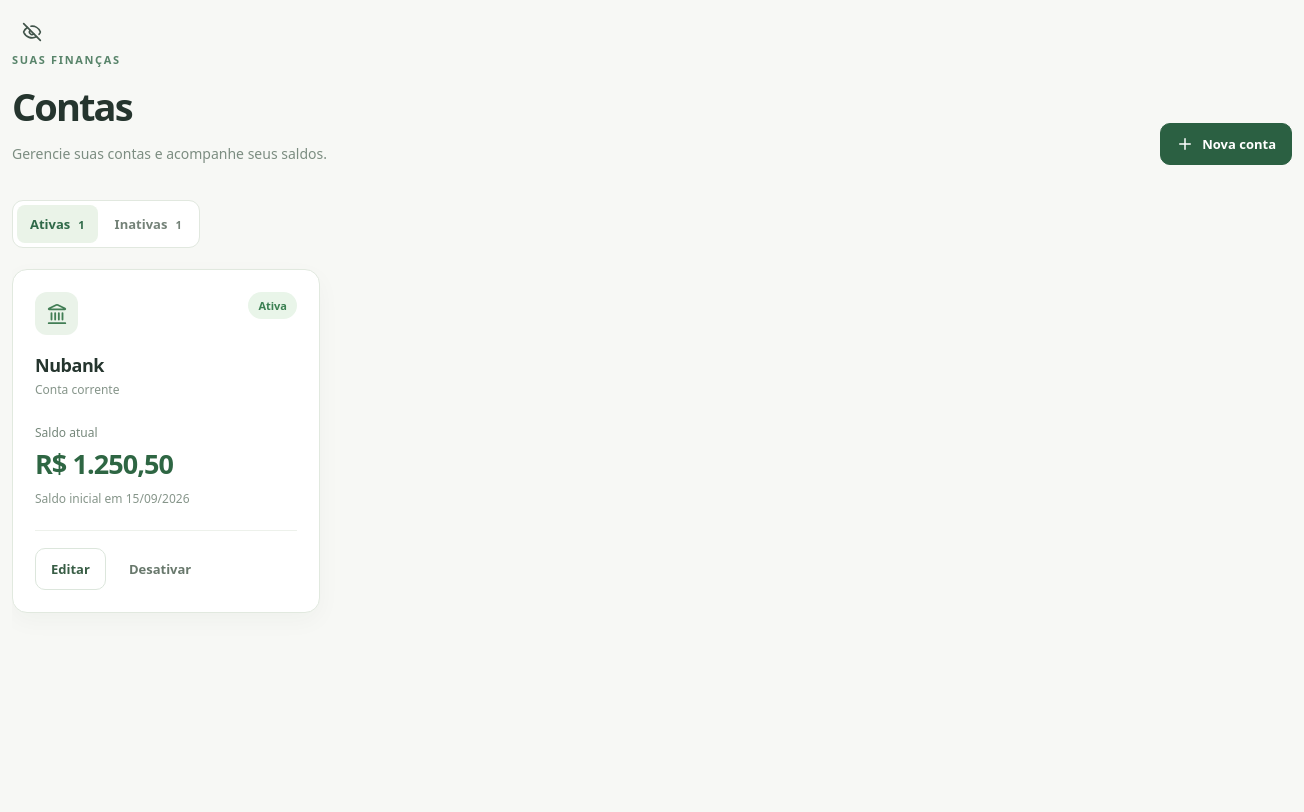
3: lists active accounts and keeps inactive accounts reachable
Expected: the heading "Nubank" is shown, [35,353,104,377]
Expected: the text "Reserva" is not shown
Click the button "Inativas 1" at (148, 224), box [102,205,195,243]
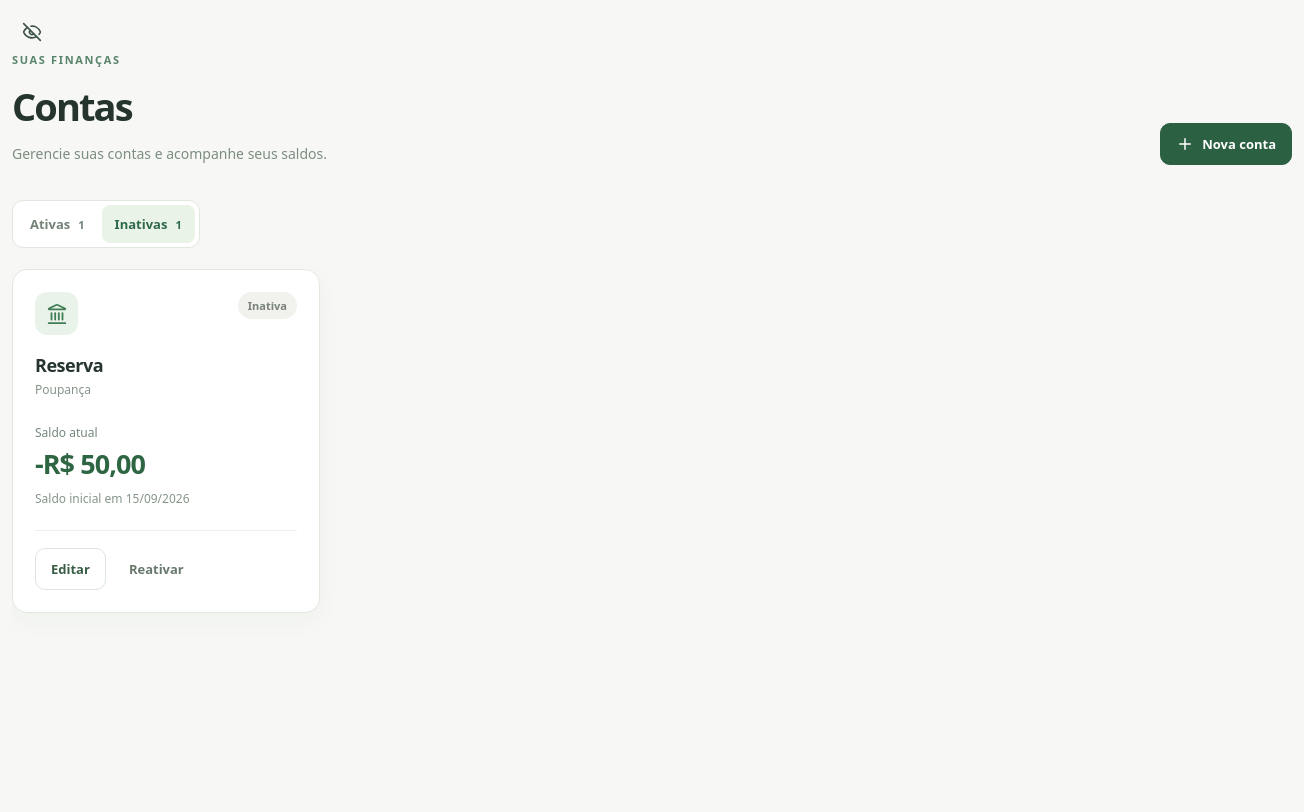
Result: the heading "Reserva" is shown at [35,353,103,377]
Result: the heading "Nubank" is gone
